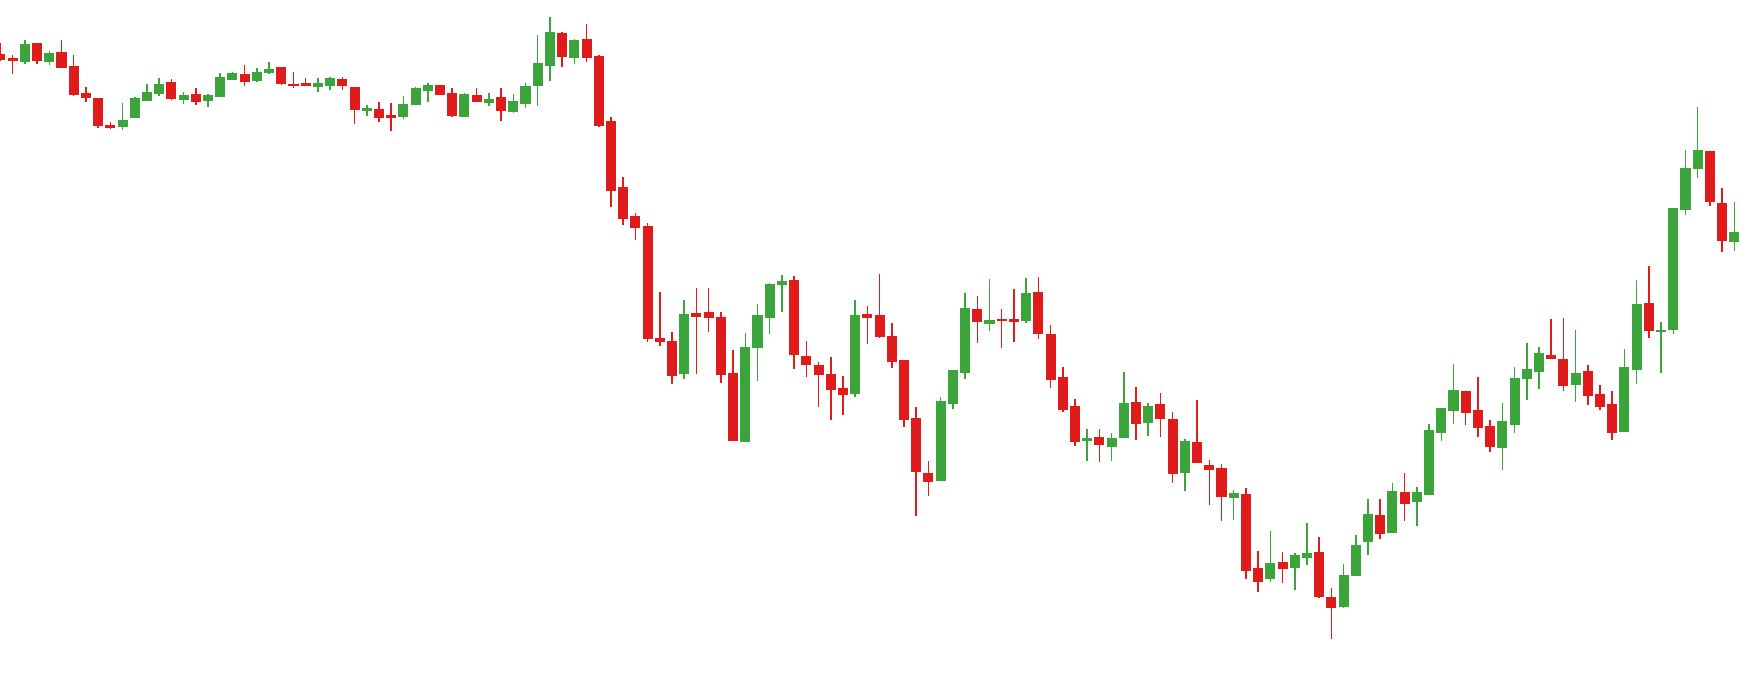buy: (725, 333, 949, 512), (1252, 543, 1352, 645)
